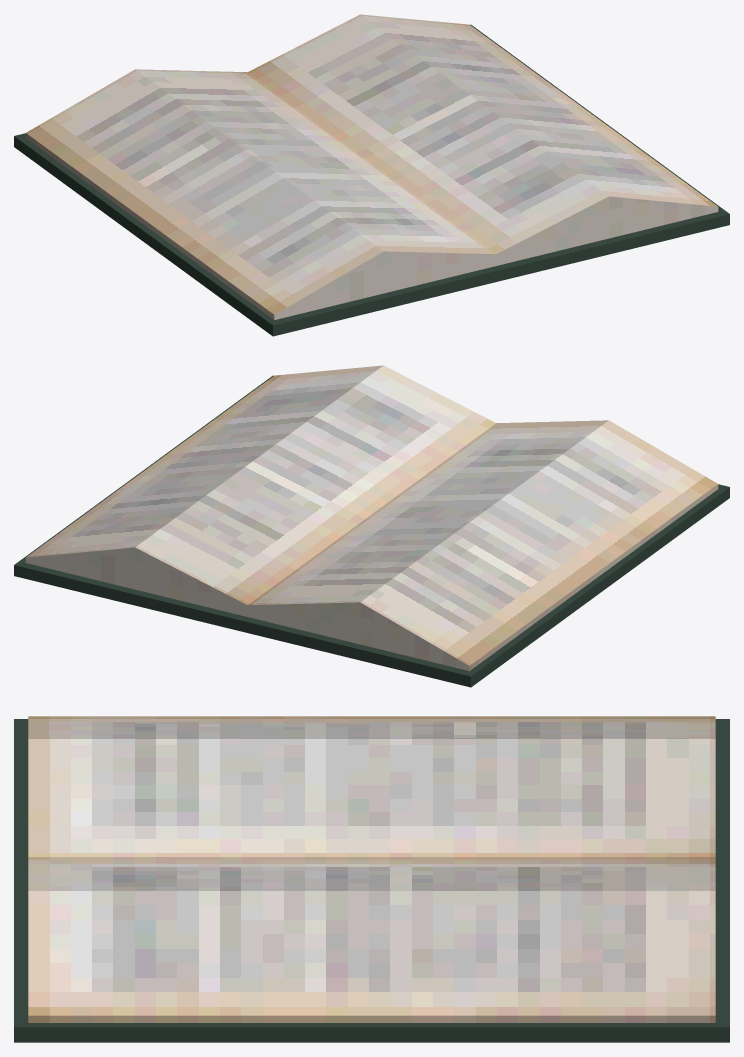
Rendered from book2.glb.
3 views of the same model, one above another, from view 1: azimuth 30°, elevation 25°; view 2: azimuth 150°, elevation 25°; view 3: azimuth 270°, elevation 25° (orthographic). The views are drawn at different scales.
Parts seen in each view (by area): view 1: book2; view 2: book2; view 3: book2.
Part boxes in pixels (left/top/right/bottom): book2: left=14, top=14, right=729, bottom=336; book2: left=14, top=365, right=729, bottom=687; book2: left=14, top=716, right=729, bottom=1042.
Size of the model in its own units: 0.2581 by 0.0287 by 0.2533.
Materials: 1 (1 with a texture image).
